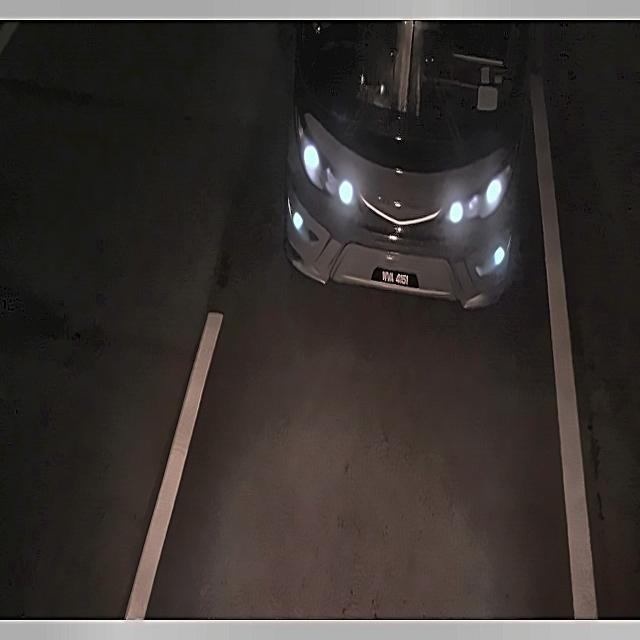car: (369, 260, 422, 294)
